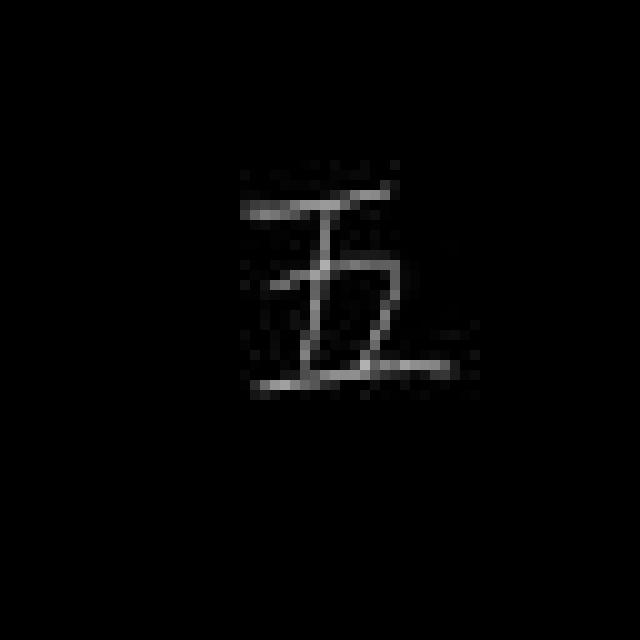5 -five-: (237, 178, 458, 401)
